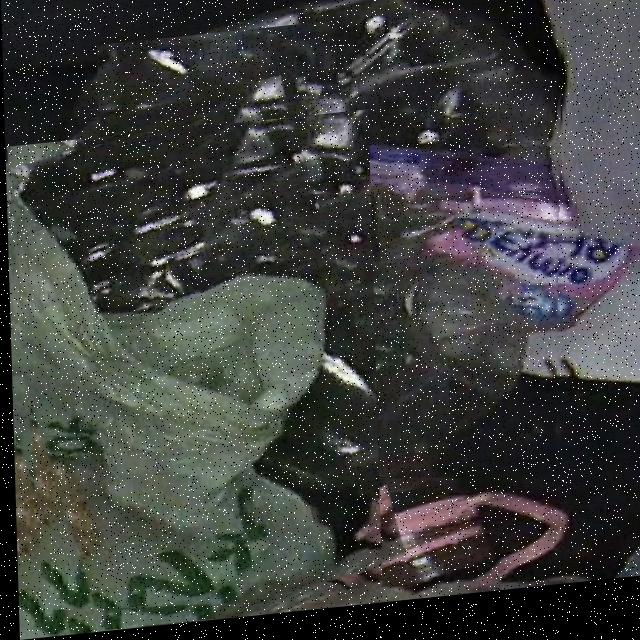litter: (95, 9, 572, 525), (3, 117, 378, 640)
